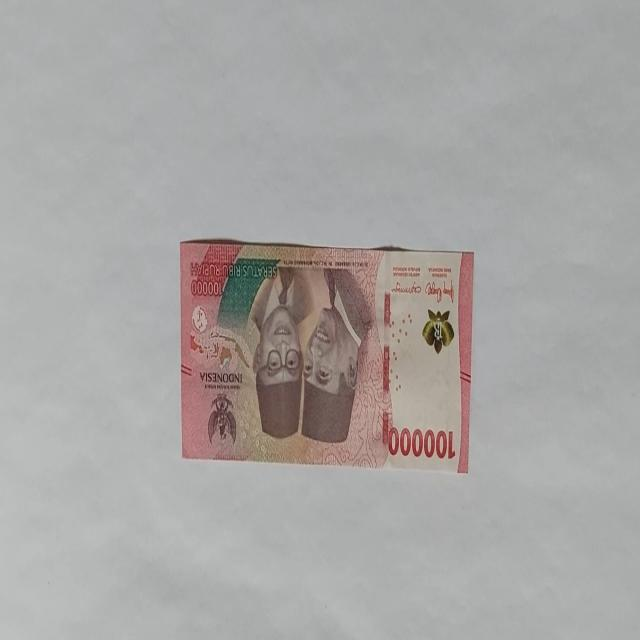seratus ribu rupiah: (179, 237, 474, 472)
